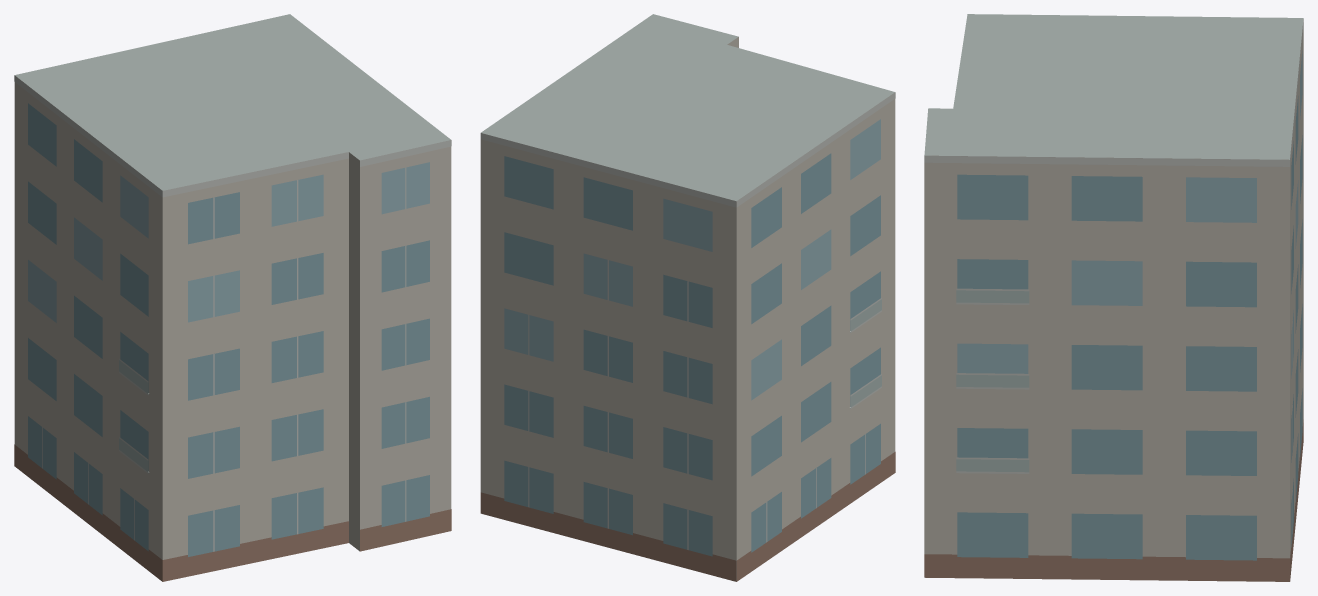
The model's file is survey-upis-32996585.glb.
3 views of the same model, side by side, from view 1: azimuth 30°, elevation 25°; view 2: azimuth 150°, elevation 25°; view 3: azimuth 270°, elevation 25° (orthographic). The views are drawn at different scales.
Visible parts, largest first — view 1: survey-upis-32996585.tmp; view 2: survey-upis-32996585.tmp; view 3: survey-upis-32996585.tmp.
Boxes of the visible parts, box(x1,y1,x2,y2) form: survey-upis-32996585.tmp: box(14, 14, 451, 581); survey-upis-32996585.tmp: box(480, 14, 895, 581); survey-upis-32996585.tmp: box(924, 14, 1303, 581).
Size of the model in its own units: 10.76 by 14.5 by 11.82.
